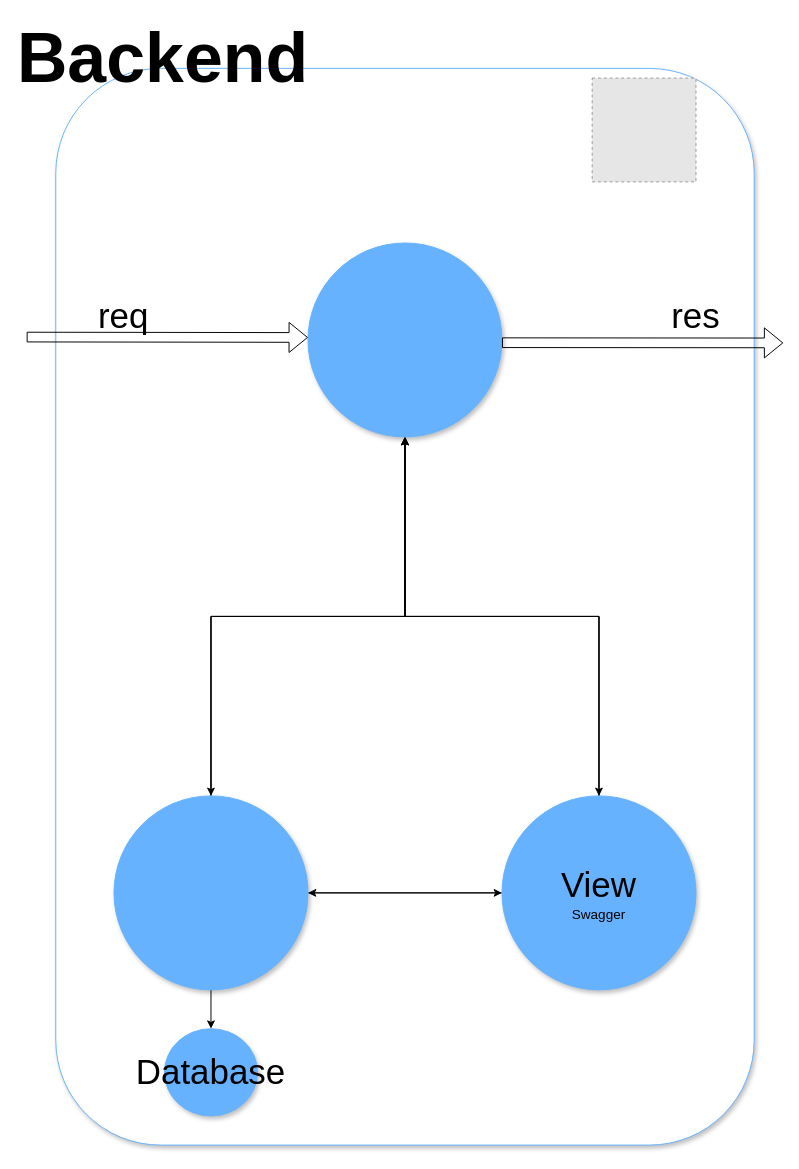
Some shapes in this 799 by 1169 pixel diagram are drawn without their labels. Grey dashed boxes stand in for pictures. The centre of each missing label's shape, as x and y in pixels:
"Controller API 엔드포인트 정의" goes at point (405, 341).
"Model EF Core" goes at point (211, 894).
